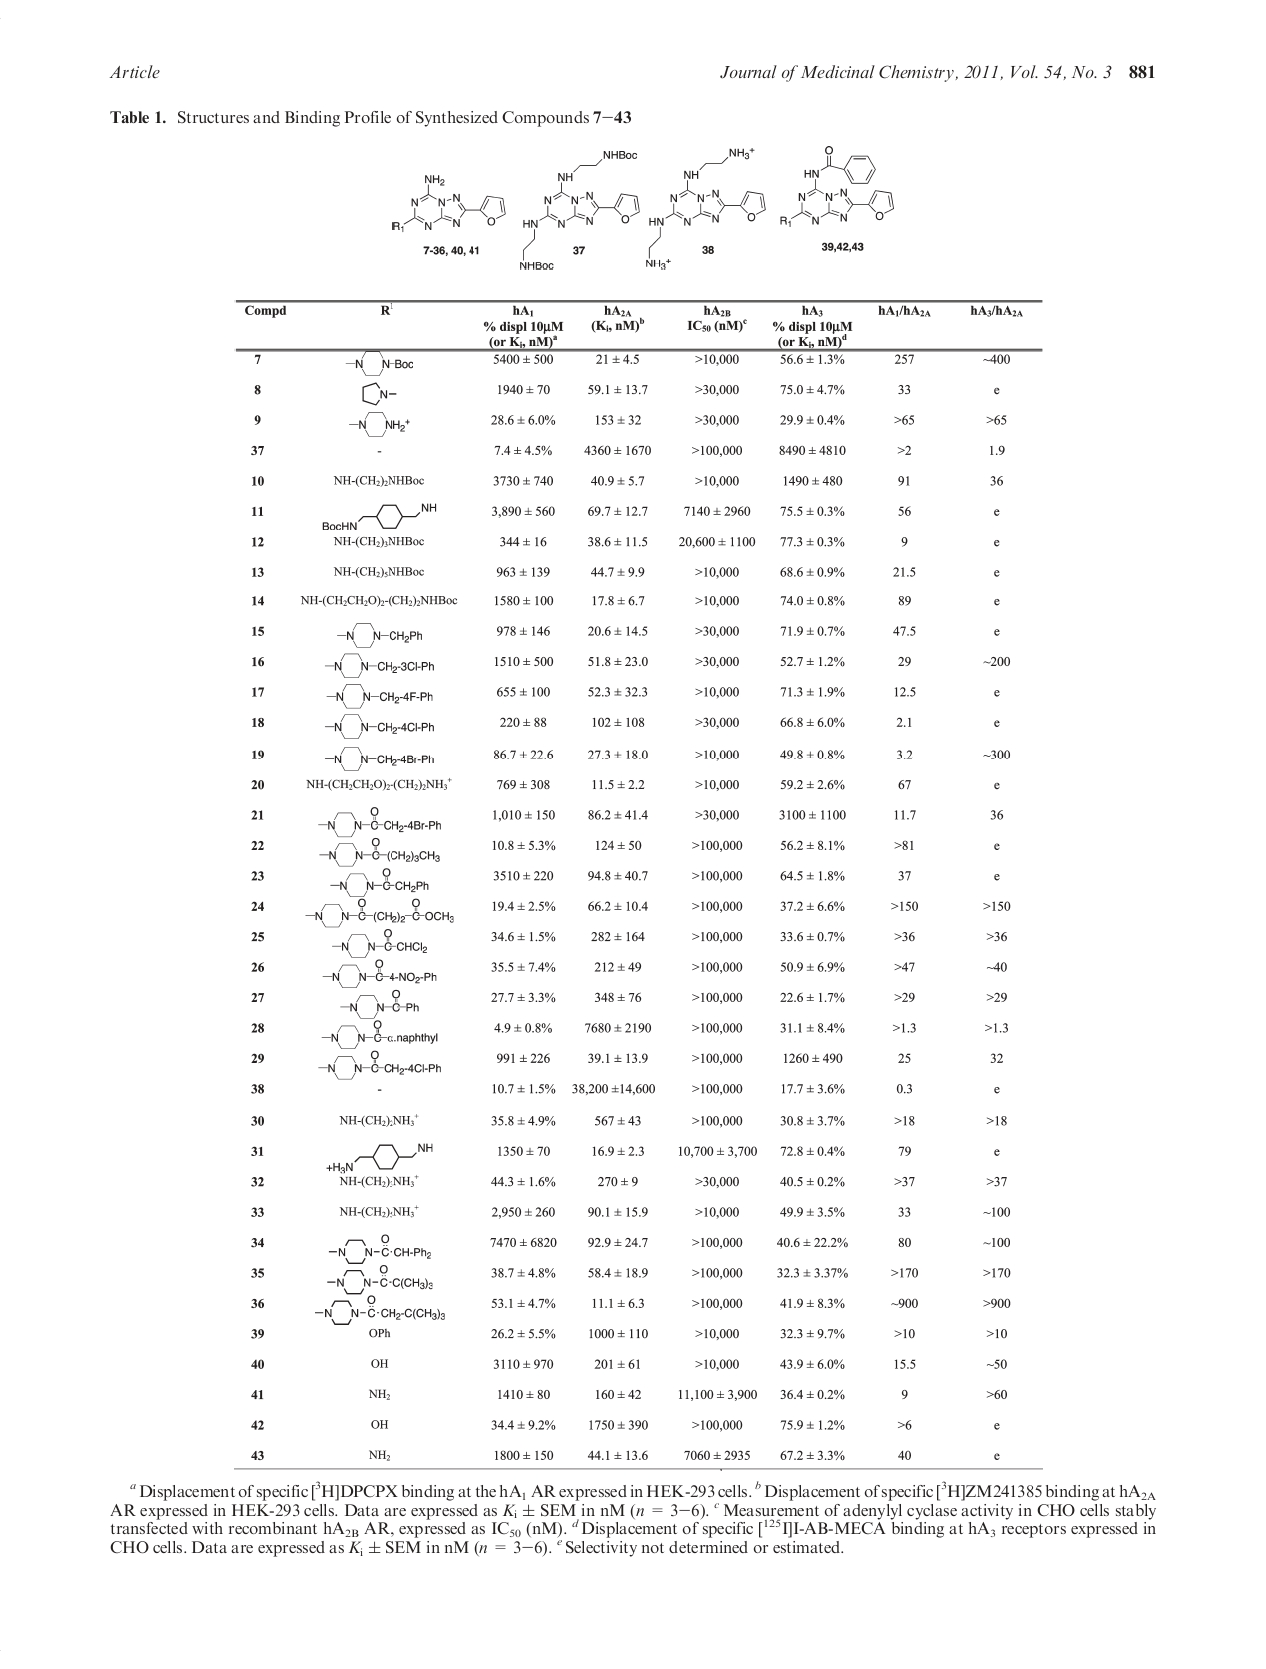exist_molecular: (519, 146, 642, 274), (644, 146, 767, 271), (775, 144, 900, 230), (391, 170, 507, 235), (305, 896, 457, 930), (315, 801, 442, 839), (313, 1294, 449, 1329), (320, 1141, 436, 1177), (316, 836, 442, 868), (318, 1051, 445, 1081), (320, 958, 440, 989), (320, 500, 439, 532), (323, 1231, 432, 1266), (323, 648, 436, 681), (320, 741, 438, 773), (322, 680, 436, 711), (320, 1263, 438, 1294), (320, 1021, 440, 1051), (322, 711, 436, 741), (327, 868, 434, 896), (330, 928, 427, 959), (336, 988, 422, 1020), (334, 621, 423, 650), (343, 407, 412, 442), (344, 350, 415, 376), (356, 379, 396, 407)
